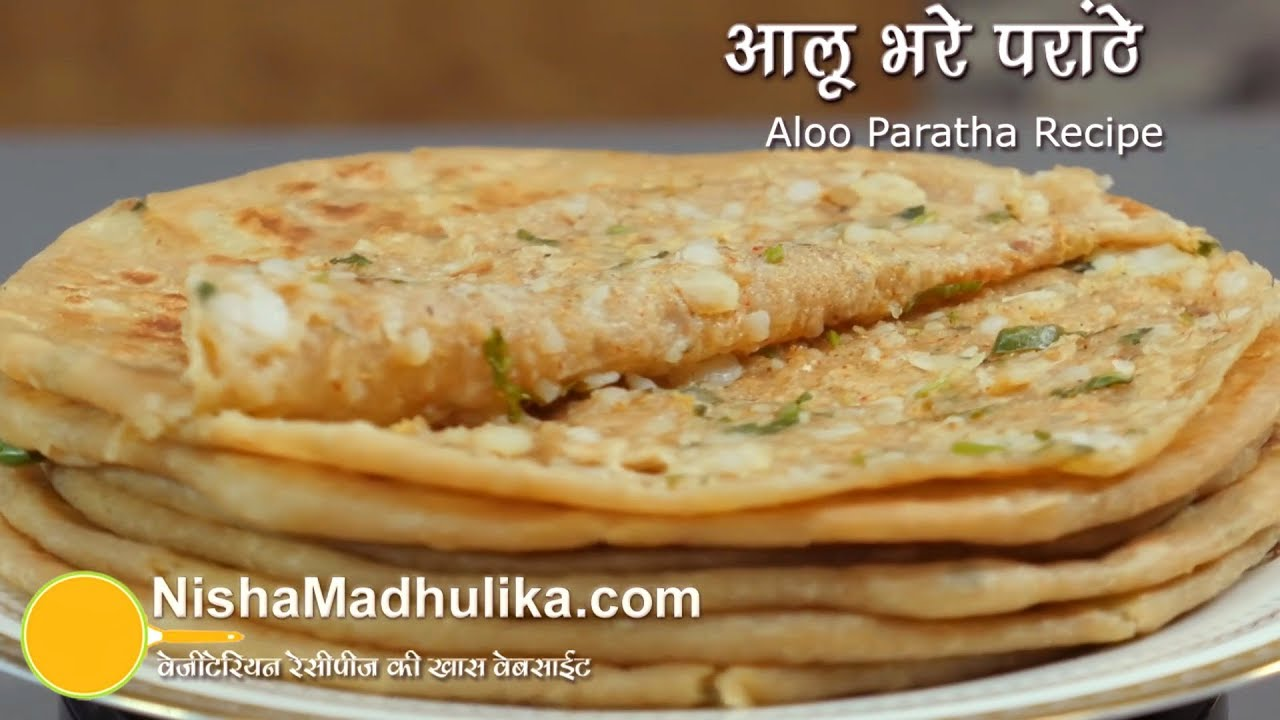aloo_paratha: (10, 137, 1270, 696)
